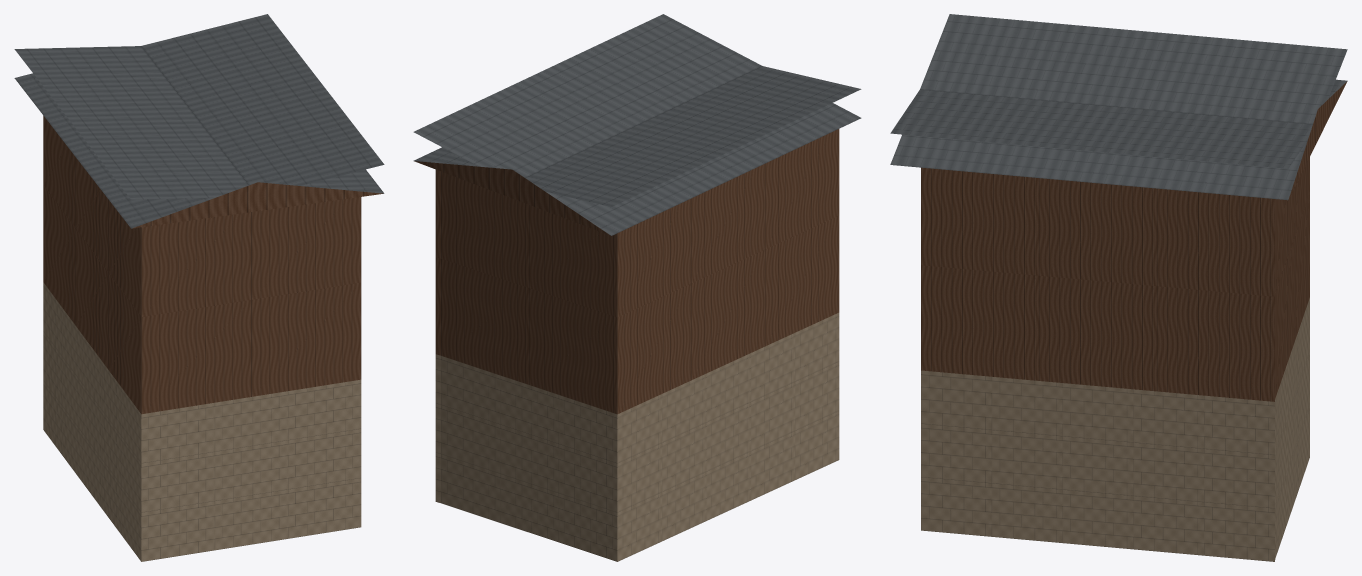
The model's file is bld_c3_19_464.gltf.
3 views of the same model, side by side, from view 1: azimuth 30°, elevation 25°; view 2: azimuth 150°, elevation 25°; view 3: azimuth 270°, elevation 25° (orthographic). The views are drawn at different scales.
Parts seen in each view (by area): view 1: bld_c3_19_464; view 2: bld_c3_19_464; view 3: bld_c3_19_464.
Boxes of the visible parts, box(x1,y1,x2,y2) form: bld_c3_19_464: box(14, 14, 384, 561); bld_c3_19_464: box(413, 14, 861, 561); bld_c3_19_464: box(890, 14, 1347, 561).
Size of the model in its own units: 10.58 by 12.8 by 13.21.
Materials: 4 (4 with a texture image).
